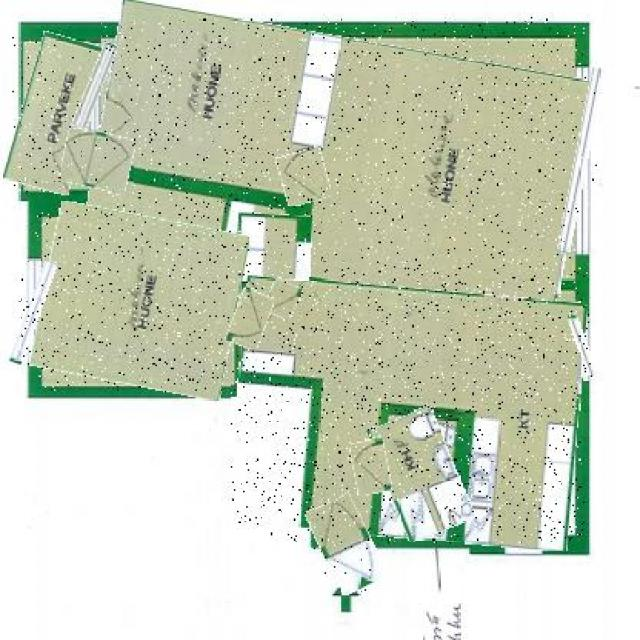door: (314, 496, 378, 592), (60, 132, 134, 194), (278, 149, 329, 205), (229, 291, 271, 349), (351, 440, 391, 495), (265, 280, 300, 318)
window: (566, 68, 597, 255), (18, 260, 50, 365), (80, 41, 109, 130), (572, 314, 594, 377)
zone: (89, 17, 588, 301), (230, 283, 584, 545), (35, 210, 243, 392), (12, 34, 100, 192), (377, 411, 465, 540), (237, 214, 311, 281)
